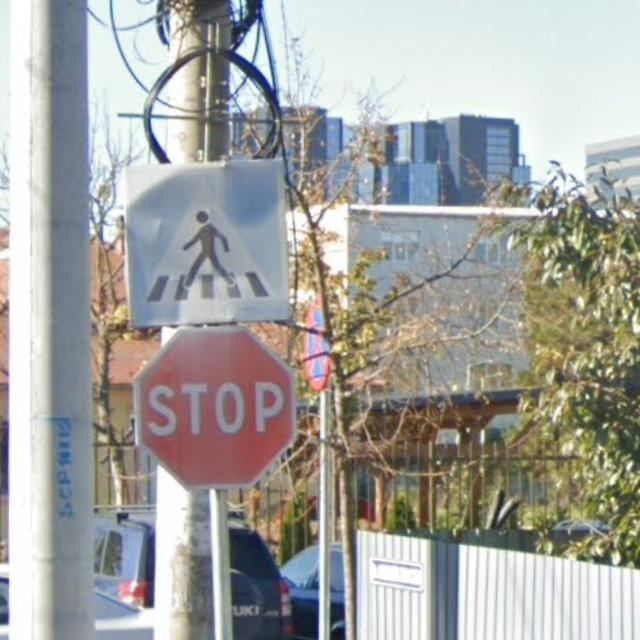info_crosswalk: (118, 160, 287, 321)
prio_stop: (129, 322, 296, 487)
